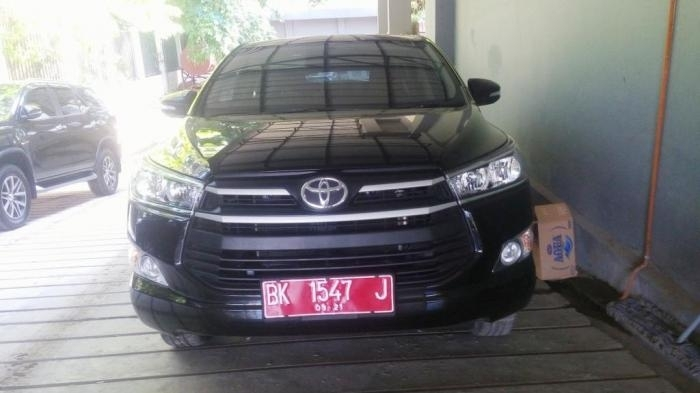plate: (262, 278, 393, 314)
